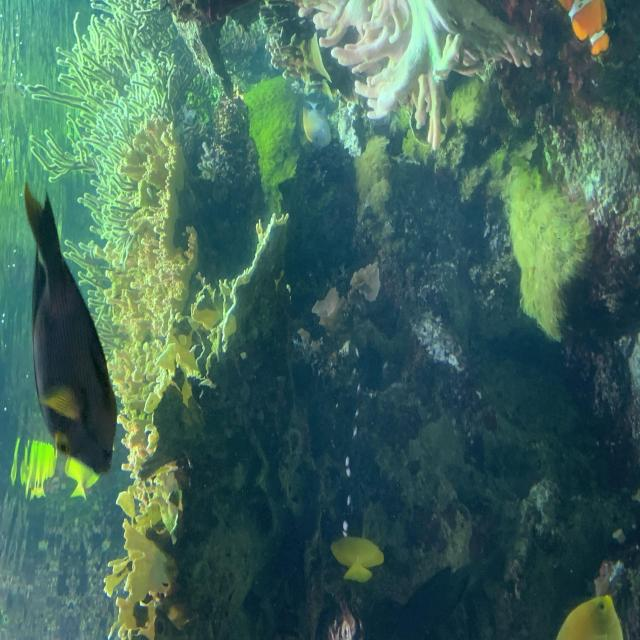fish: (18, 182, 119, 479), (556, 591, 625, 640), (558, 0, 612, 57), (331, 535, 384, 584), (64, 442, 105, 500), (302, 98, 336, 152)
